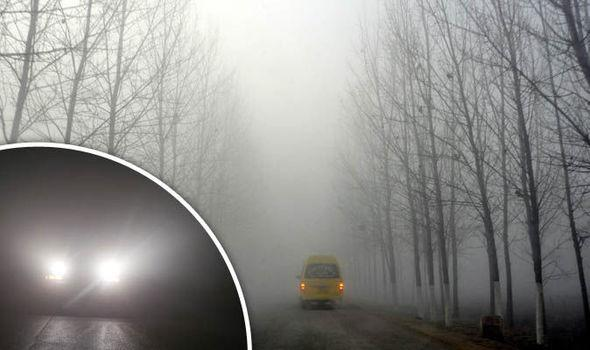car: (20, 207, 158, 317), (296, 253, 346, 310)
